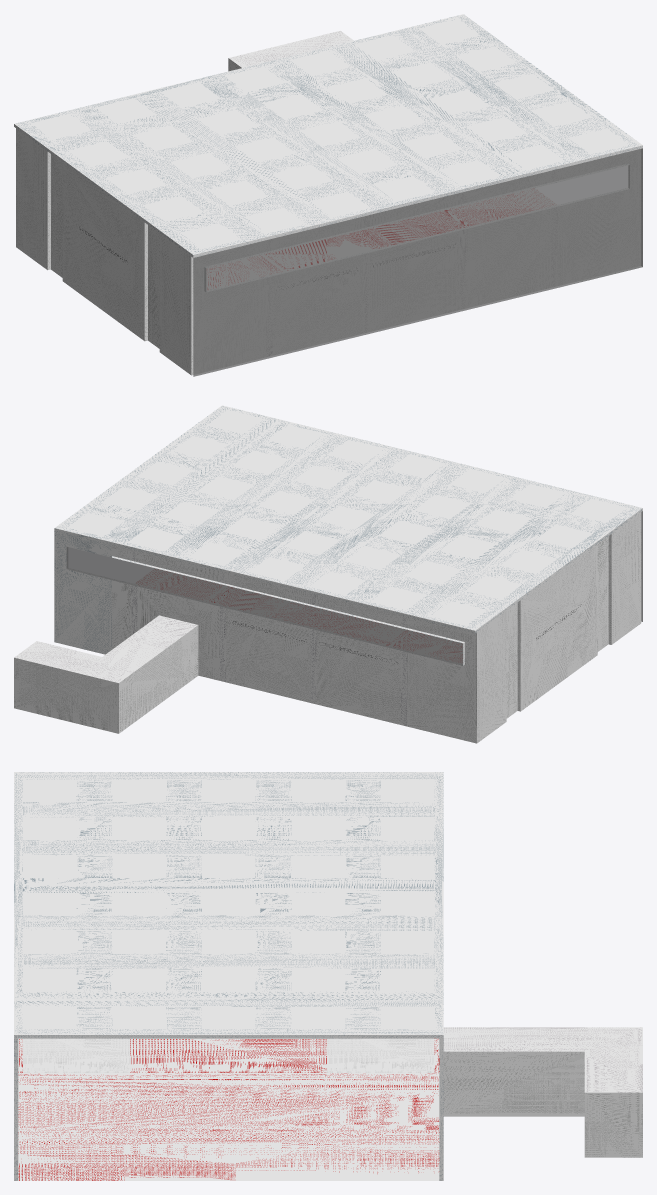
The model's file is Hall.fbx.
3 views of the same model, one above another, from view 1: azimuth 30°, elevation 25°; view 2: azimuth 150°, elevation 25°; view 3: azimuth 270°, elevation 25° (orthographic). The views are drawn at different scales.
Parts seen in each view (by area): view 1: Model; view 2: Model; view 3: Model.
Part boxes in pixels (left/top/right/bottom): Model: left=14, top=14, right=642, bottom=376; Model: left=14, top=405, right=642, bottom=743; Model: left=14, top=772, right=642, bottom=1180.
Size of the model in its own units: 34.75 by 9 by 35.13.
